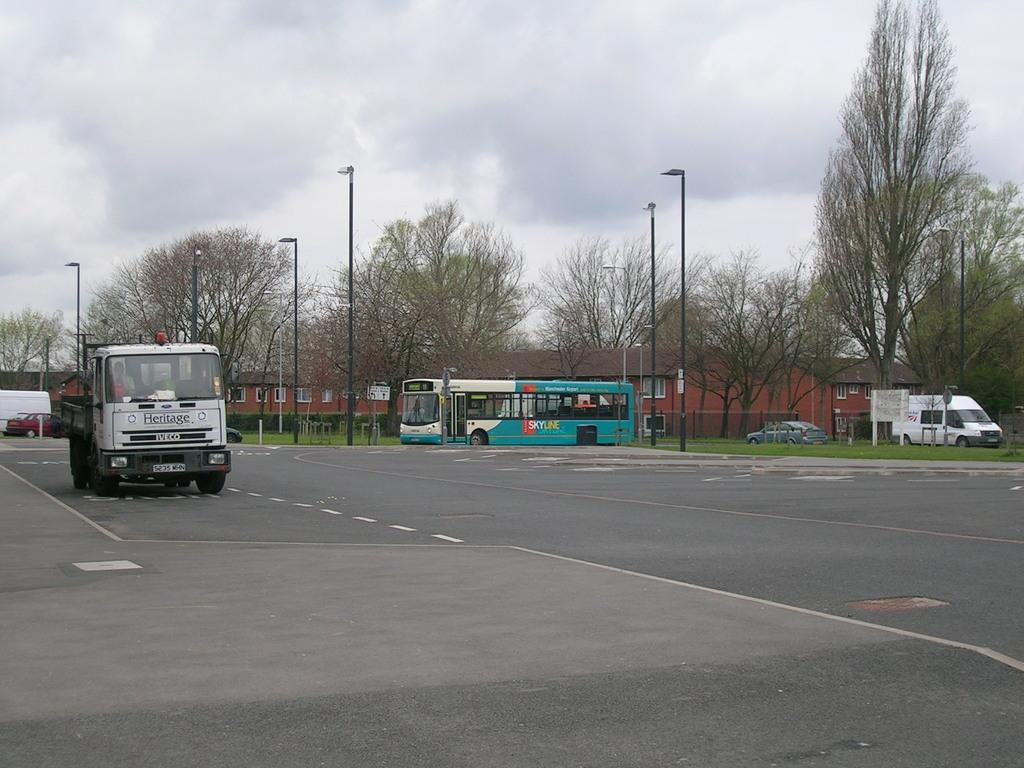vehicle: (58, 331, 232, 494), (400, 377, 637, 447), (893, 394, 1003, 447), (747, 421, 829, 447), (7, 412, 61, 439)
